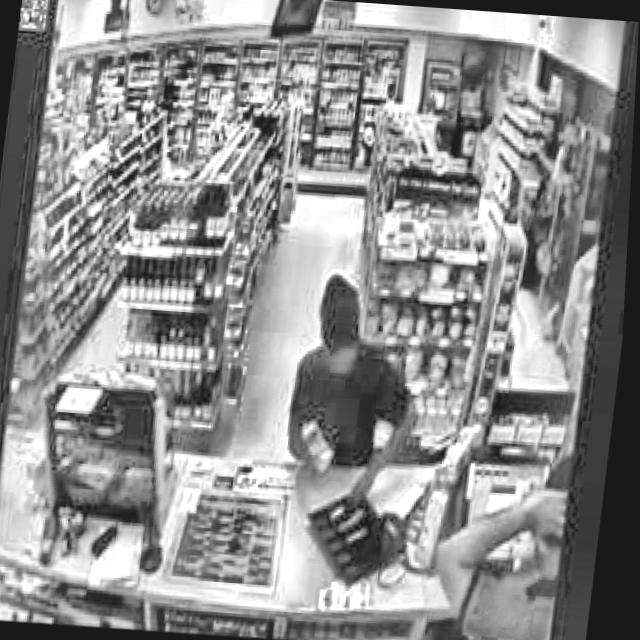robbery: (281, 271, 438, 514), (428, 443, 578, 640)
